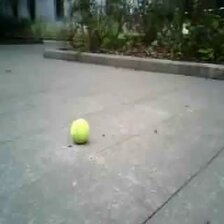tennis: (69, 118, 90, 143)
